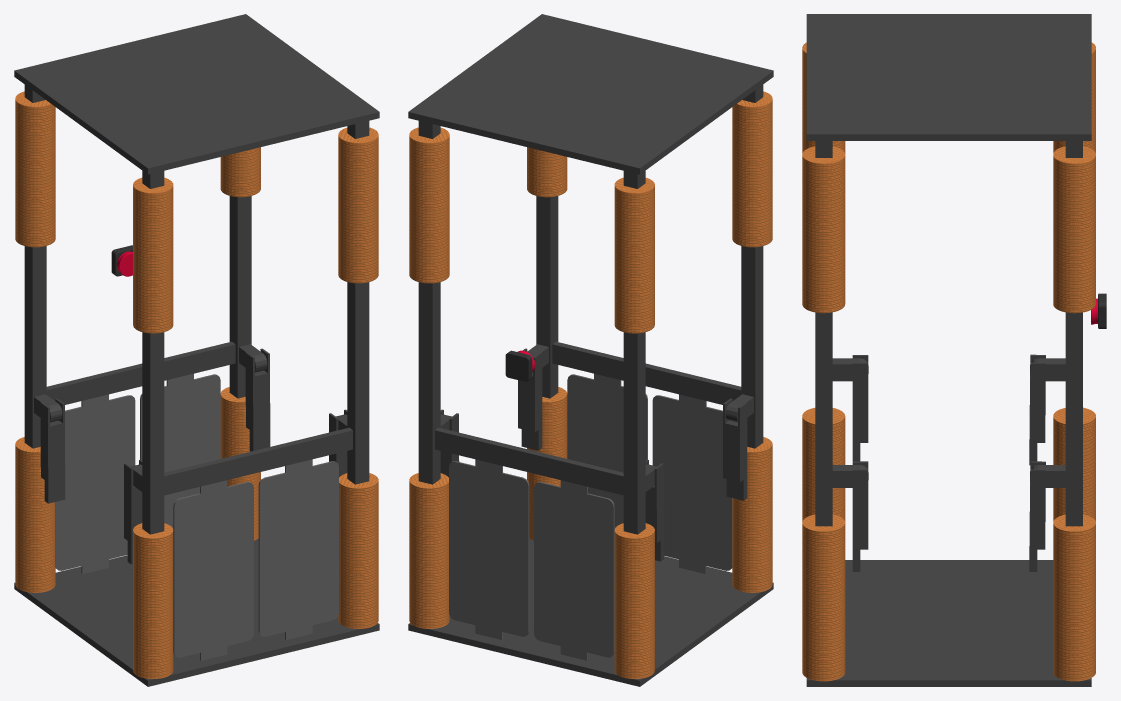
3 views of the same model, side by side, from view 1: azimuth 30°, elevation 25°; view 2: azimuth 150°, elevation 25°; view 3: azimuth 270°, elevation 25° (orthographic). The views are drawn at different scales.
Visible parts, largest first — view 1: TopBottomPlates, Plates, coils, Frame, DoorArmPair.001, DoorArmPair.002; view 2: TopBottomPlates, Plates, coils, Frame, DoorArmPair.002, DoorArmPair.001, Cube.003; view 3: TopBottomPlates, coils, Frame, DoorArmPair.002, DoorArmPair.001.
Part boxes in pixels (x1=…): TopBottomPlates: x1=14, y1=14, x2=379, y2=686; Plates: x1=55, y1=373, x2=338, y2=660; coils: x1=15, y1=91, x2=378, y2=678; Frame: x1=24, y1=85, x2=369, y2=534; DoorArmPair.001: x1=40, y1=348, x2=270, y2=503; DoorArmPair.002: x1=124, y1=409, x2=347, y2=564; TopBottomPlates: x1=408, y1=14, x2=773, y2=686; Plates: x1=449, y1=373, x2=732, y2=660; coils: x1=409, y1=91, x2=772, y2=678; Frame: x1=418, y1=85, x2=763, y2=534; DoorArmPair.002: x1=518, y1=348, x2=747, y2=500; DoorArmPair.001: x1=440, y1=409, x2=664, y2=561; Cube.003: x1=505, y1=350, x2=532, y2=381; TopBottomPlates: x1=806, y1=14, x2=1091, y2=686; coils: x1=802, y1=42, x2=1095, y2=681; Frame: x1=815, y1=141, x2=1082, y2=526; DoorArmPair.002: x1=852, y1=355, x2=868, y2=571; DoorArmPair.001: x1=1029, y1=354, x2=1045, y2=571.
Size of the model in its own units: 1.04 by 2.22 by 1.07.
Materials: 5 (1 with a texture image).
